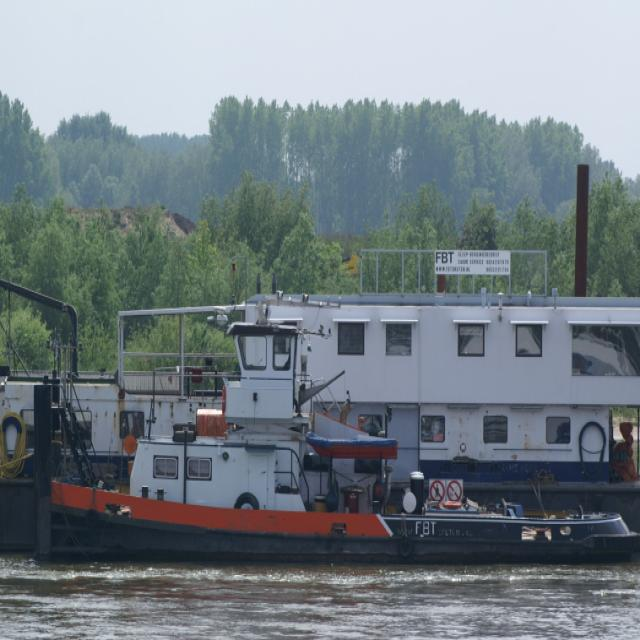tugboat: (29, 286, 640, 581)
